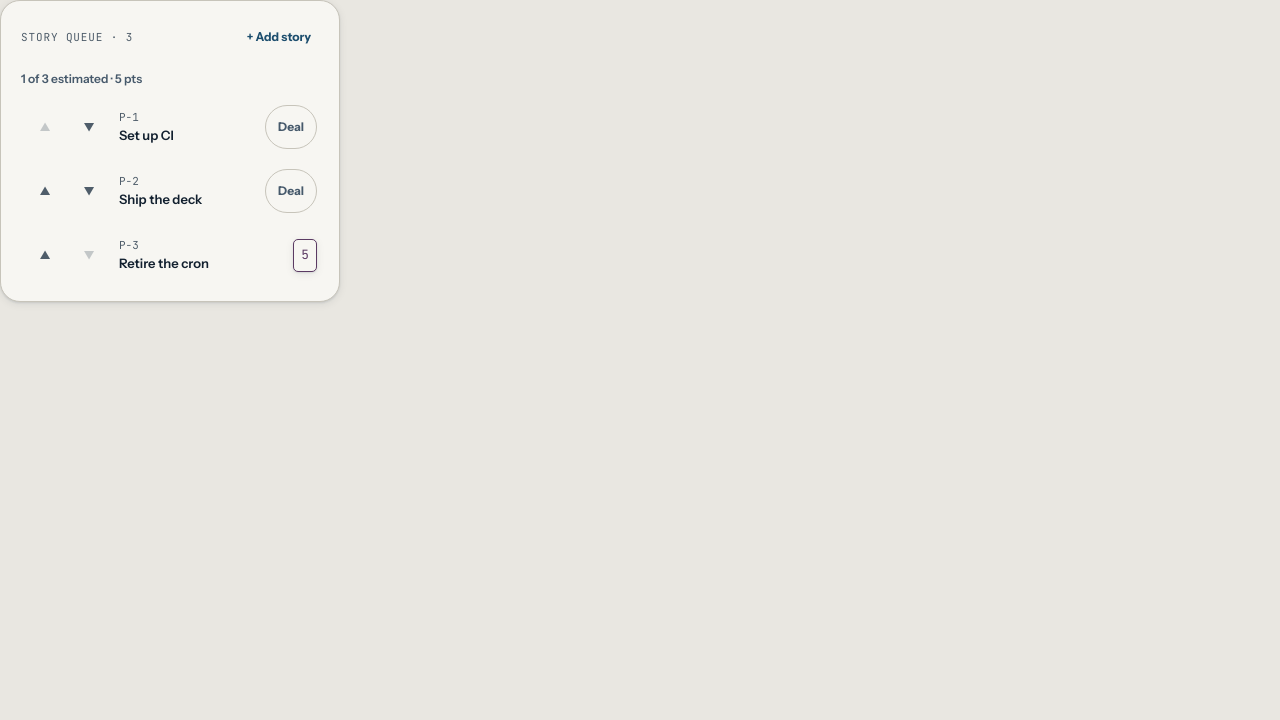
StoryQueue add flow › keeps the ad-hoc round one click inside the dialog
The image size is (1280, 720).
Click the button "+ Add story".
click(279, 37)  # box [239,15,319,59]
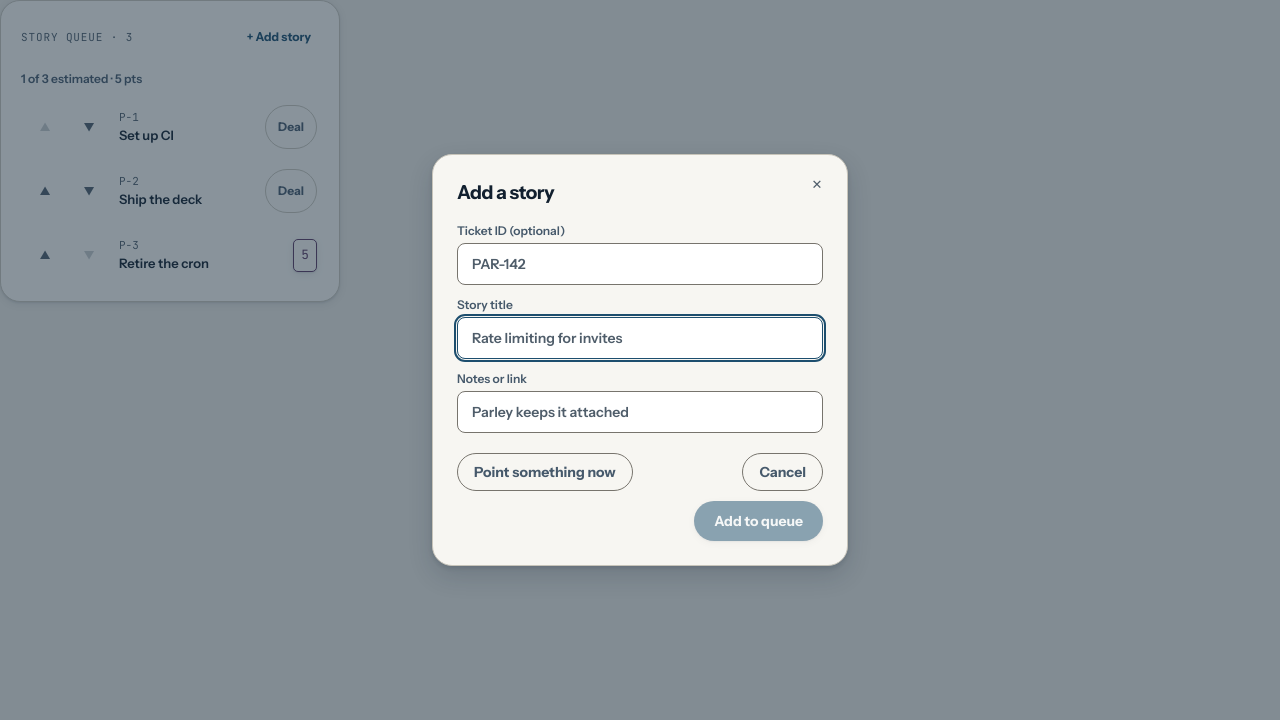
Click the button "Point something now".
click(545, 472)  # box [457,453,633,491]
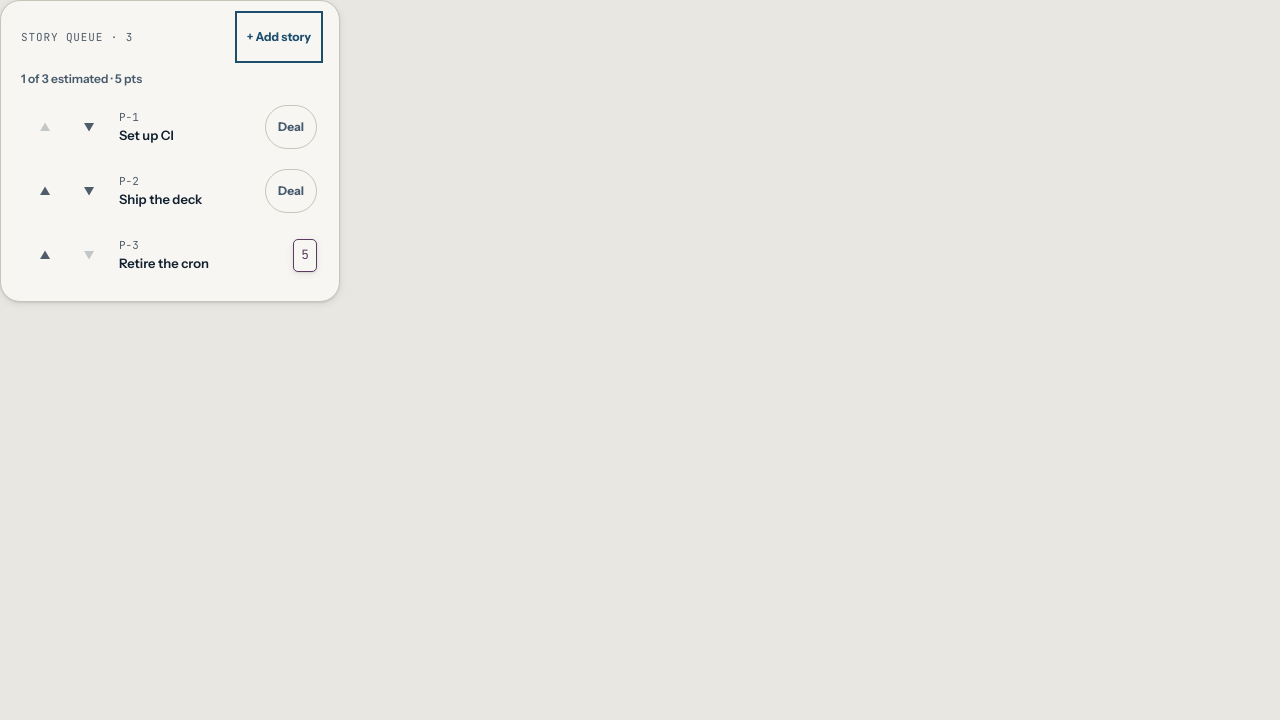
Expected: the dialog is gone
